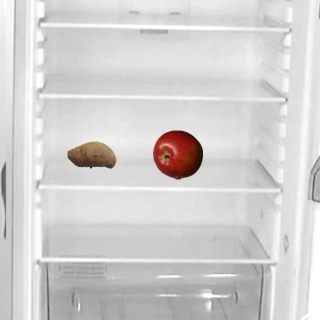Apple Braeburn: (152, 129, 202, 179)
Potato Sweet: (66, 129, 116, 179)
